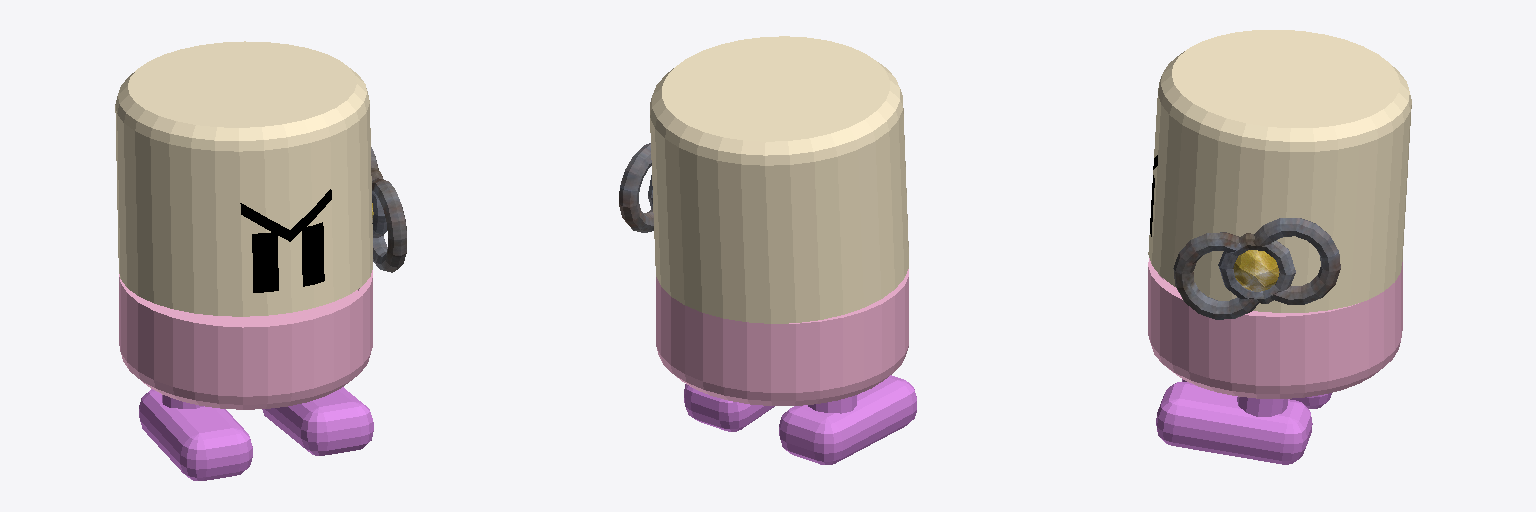
The picture shows the model from 3 angles: view 1: azimuth 30°, elevation 25°; view 2: azimuth 150°, elevation 25°; view 3: azimuth 270°, elevation 25°; orthographic projection.
Parts seen in each view (by area): view 1: Head, Jaw, RightLeg, LeftLeg, WindupKey; view 2: Head, Jaw, RightLeg, LeftLeg, WindupKey; view 3: Head, Jaw, WindupKey, LeftLeg.
Boxes of the visible parts, x1=… form: Head: x1=115, y1=41, x2=372, y2=316; Jaw: x1=119, y1=270, x2=372, y2=409; RightLeg: x1=139, y1=389, x2=252, y2=480; LeftLeg: x1=262, y1=387, x2=373, y2=455; WindupKey: x1=371, y1=147, x2=406, y2=272; Head: x1=650, y1=36, x2=908, y2=323; Jaw: x1=656, y1=269, x2=908, y2=405; RightLeg: x1=779, y1=375, x2=916, y2=464; LeftLeg: x1=684, y1=384, x2=774, y2=431; WindupKey: x1=619, y1=143, x2=653, y2=232; Head: x1=1148, y1=30, x2=1411, y2=312; Jaw: x1=1148, y1=258, x2=1402, y2=398; WindupKey: x1=1173, y1=218, x2=1340, y2=319; LeftLeg: x1=1156, y1=382, x2=1312, y2=464.
Size of the model in its own units: 111 by 154 by 104.
Materials: 6 (2 with a texture image).